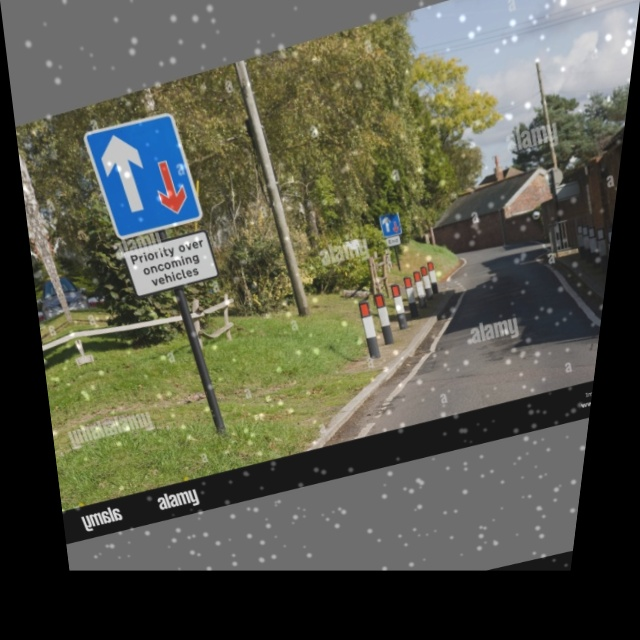Priority_for_Oncoming_Traffic: (83, 109, 205, 239)
